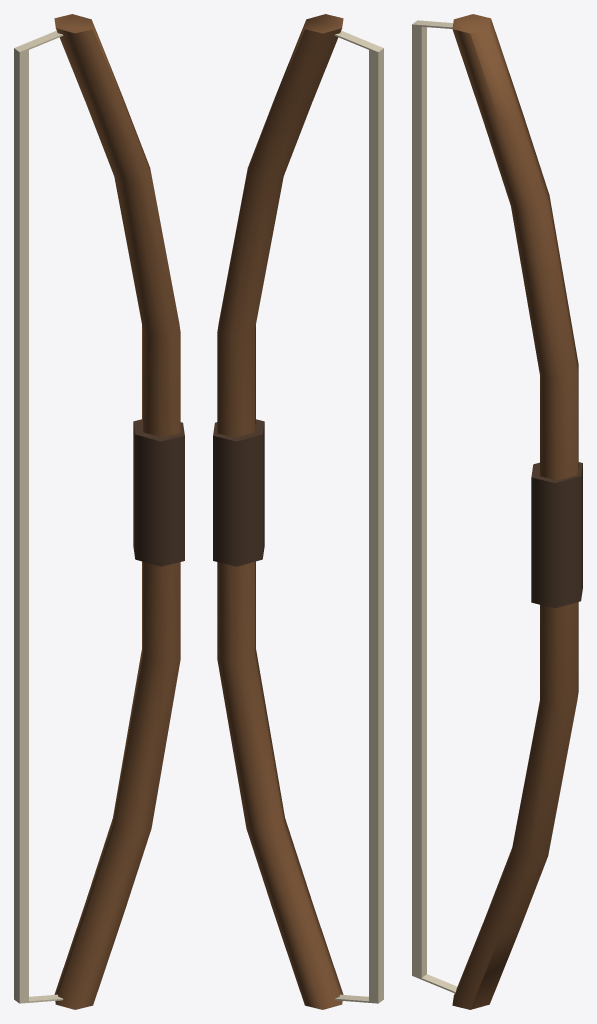
The model's file is bow_recurve.obj.
3 renders of one model, left to right at view 1: azimuth 30°, elevation 25°; view 2: azimuth 150°, elevation 25°; view 3: azimuth 330°, elevation 25°, orthographic.
Parts seen in each view (by area): view 1: continuous_recurve_limb, string_and_tip_connections, grip; view 2: continuous_recurve_limb, string_and_tip_connections, grip; view 3: continuous_recurve_limb, string_and_tip_connections, grip.
Part boxes in pixels (x1,y1,x2,y2): continuous_recurve_limb: (54, 14, 180, 1009); string_and_tip_connections: (14, 30, 63, 1003); grip: (133, 419, 184, 566); continuous_recurve_limb: (217, 14, 343, 1009); string_and_tip_connections: (334, 30, 383, 1003); grip: (213, 419, 264, 566); continuous_recurve_limb: (452, 14, 578, 1009); string_and_tip_connections: (412, 20, 457, 993); grip: (531, 462, 582, 608).
Size of the model in its own units: 0.139 by 0.78 by 0.04.
